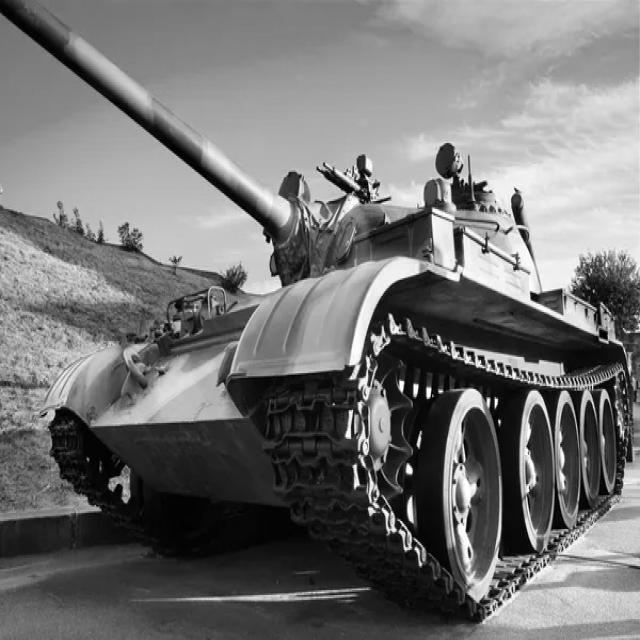Tank: (5, 7, 640, 611)
